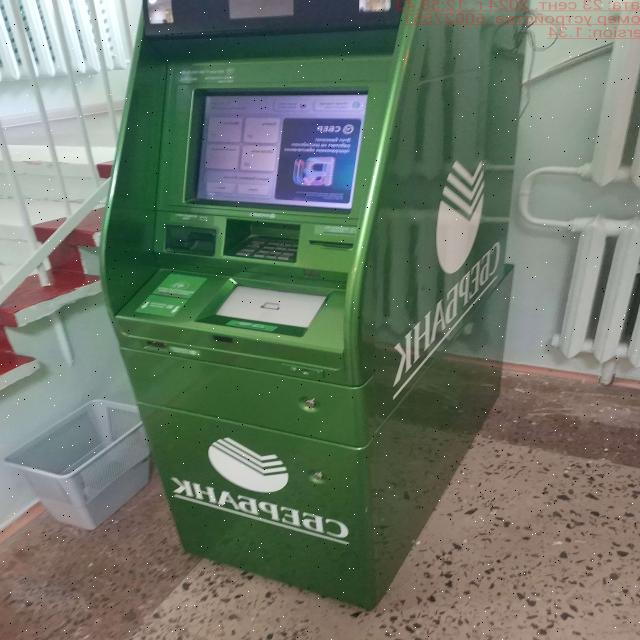bank: (94, 0, 534, 613)
